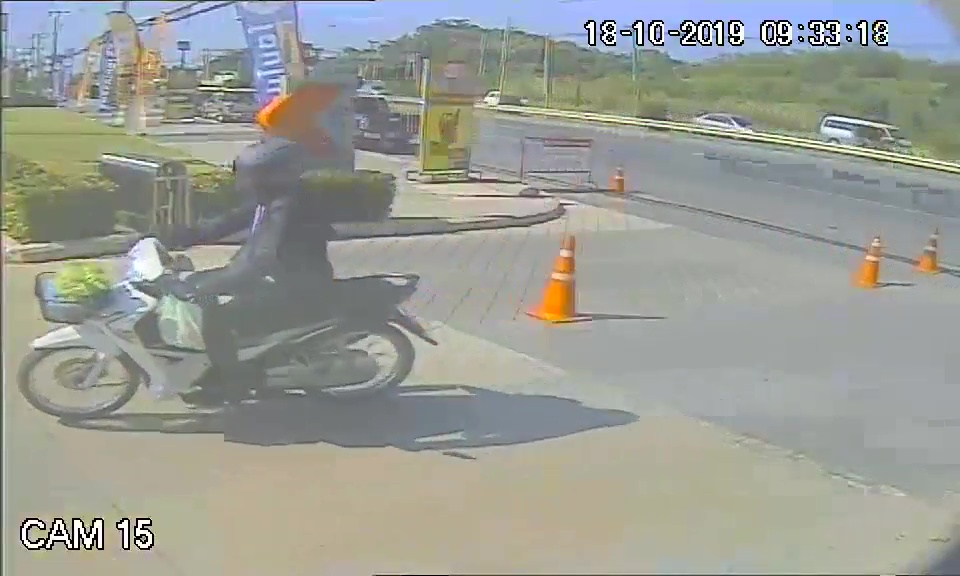motorcycle: (14, 230, 443, 423)
